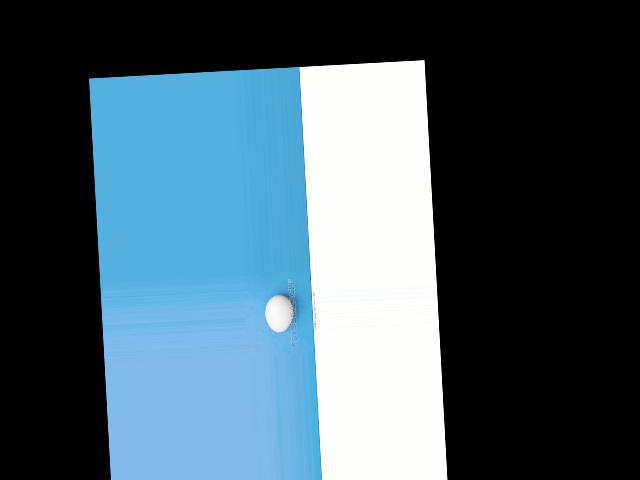egg: (264, 294, 295, 332)
